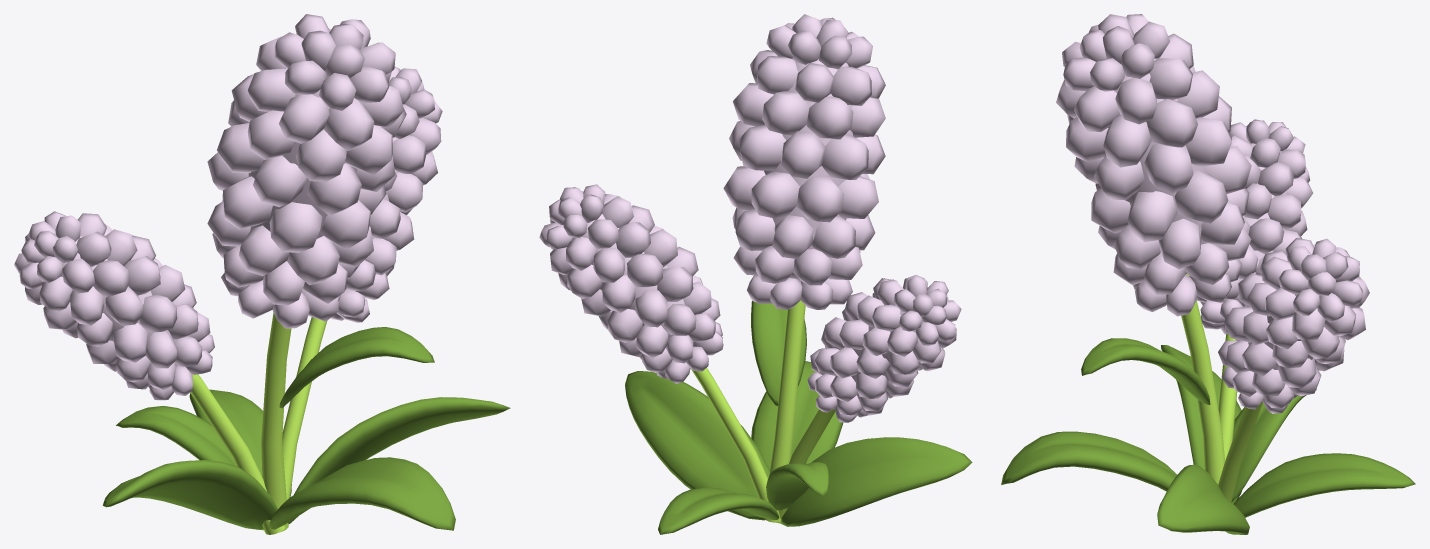
The model's file is Lavender_2.fbx.
3 views of the same model, side by side, from view 1: azimuth 30°, elevation 25°; view 2: azimuth 150°, elevation 25°; view 3: azimuth 270°, elevation 25° (orthographic). The views are drawn at different scales.
Parts seen in each view (by area): view 1: Leaf.012, Leaf.002, Leaf.009, NurbsPath.005, Leaf.011, Leaf.013, NurbsPath.007, NurbsPath.006, Cube.120, Leaf.010, Cube.127, Cube.149 (+59 smaller); view 2: Leaf.009, Leaf.002, Leaf.012, NurbsPath.005, Leaf.010, Leaf.011, Leaf.013, NurbsPath.007, Cube.123, Cube.122, Cube.128, Cube.130 (+56 smaller); view 3: Leaf.010, Leaf.012, Leaf.009, NurbsPath.005, Leaf.011, Leaf.013, Cube.124, Cube.118, Cube.131, Cube.152, Cube.151, Leaf.002 (+56 smaller).
Part boxes in pixels (x1=…): Leaf.012: x1=269, y1=457, x2=455, y2=530; Leaf.002: x1=102, y1=460, x2=277, y2=530; Leaf.009: x1=288, y1=397, x2=510, y2=523; NurbsPath.005: x1=261, y1=312, x2=291, y2=532; Leaf.011: x1=279, y1=327, x2=434, y2=408; Leaf.013: x1=116, y1=406, x2=235, y2=465; NurbsPath.007: x1=282, y1=317, x2=327, y2=499; NurbsPath.006: x1=190, y1=374, x2=285, y2=534; Cube.120: x1=269, y1=202, x2=322, y2=252; Leaf.010: x1=189, y1=389, x2=291, y2=497; Cube.127: x1=253, y1=155, x2=306, y2=206; Cube.149: x1=296, y1=129, x2=346, y2=181; Leaf.009: x1=625, y1=371, x2=769, y2=520; Leaf.002: x1=780, y1=437, x2=972, y2=526; Leaf.012: x1=751, y1=361, x2=843, y2=469; NurbsPath.005: x1=764, y1=300, x2=805, y2=522; Leaf.010: x1=658, y1=487, x2=779, y2=534; Leaf.011: x1=751, y1=301, x2=806, y2=406; Leaf.013: x1=766, y1=462, x2=828, y2=510; NurbsPath.007: x1=691, y1=368, x2=769, y2=521; Cube.123: x1=751, y1=171, x2=799, y2=218; Cube.122: x1=796, y1=176, x2=844, y2=222; Cube.128: x1=822, y1=134, x2=868, y2=179; Cube.130: x1=739, y1=124, x2=786, y2=170; Leaf.010: x1=1233, y1=453, x2=1415, y2=517; Leaf.012: x1=1001, y1=431, x2=1176, y2=491; Leaf.009: x1=1157, y1=464, x2=1249, y2=534; NurbsPath.005: x1=1181, y1=274, x2=1224, y2=484; Leaf.011: x1=1081, y1=338, x2=1210, y2=404; Leaf.013: x1=1231, y1=395, x2=1306, y2=502; Cube.124: x1=1174, y1=170, x2=1228, y2=223; Cube.118: x1=1127, y1=191, x2=1177, y2=242; Cube.131: x1=1144, y1=143, x2=1193, y2=193; Cube.152: x1=1146, y1=99, x2=1197, y2=147; Cube.151: x1=1103, y1=116, x2=1151, y2=167; Leaf.002: x1=1161, y1=345, x2=1241, y2=503.
Bounding box in the file's own units: 0.6173 × 0.539 × 0.7196.
